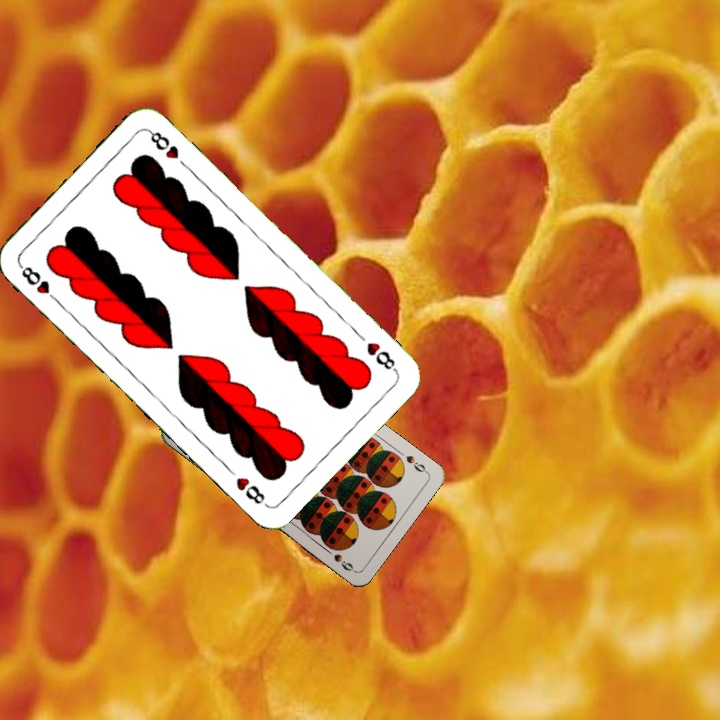H8: (15, 260, 62, 306), (362, 338, 400, 375)
S9: (402, 451, 430, 476)
